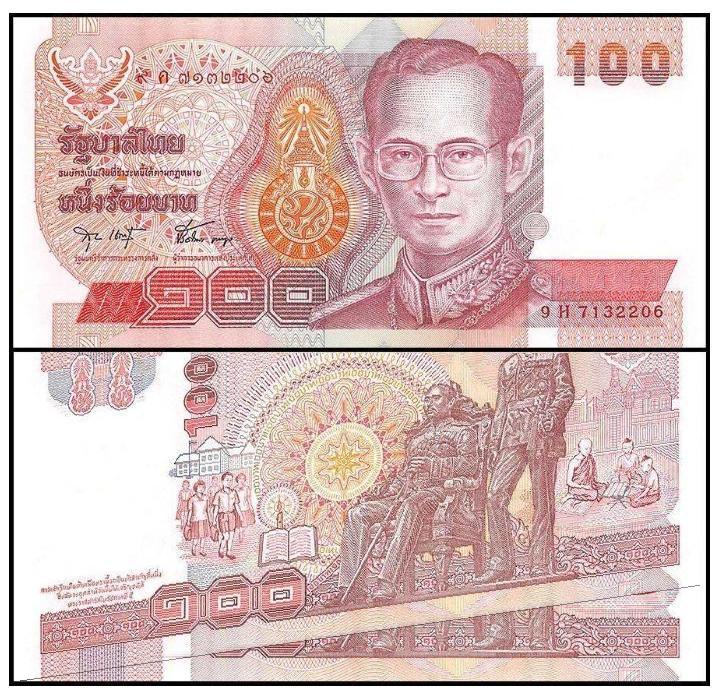100BahtTai: (16, 353, 700, 682)
